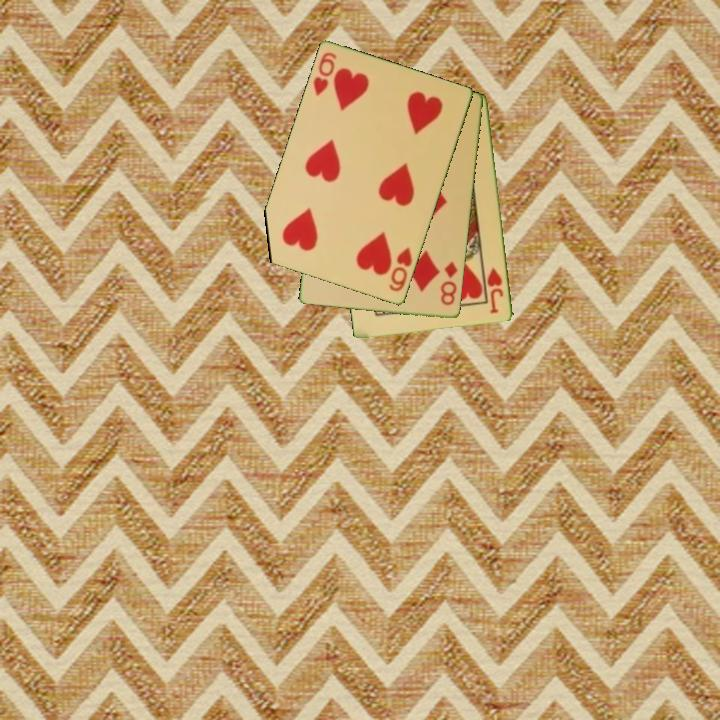6h: (310, 49, 340, 100), (386, 244, 415, 295)
8d: (437, 258, 461, 309)
Jh: (484, 264, 507, 316)
